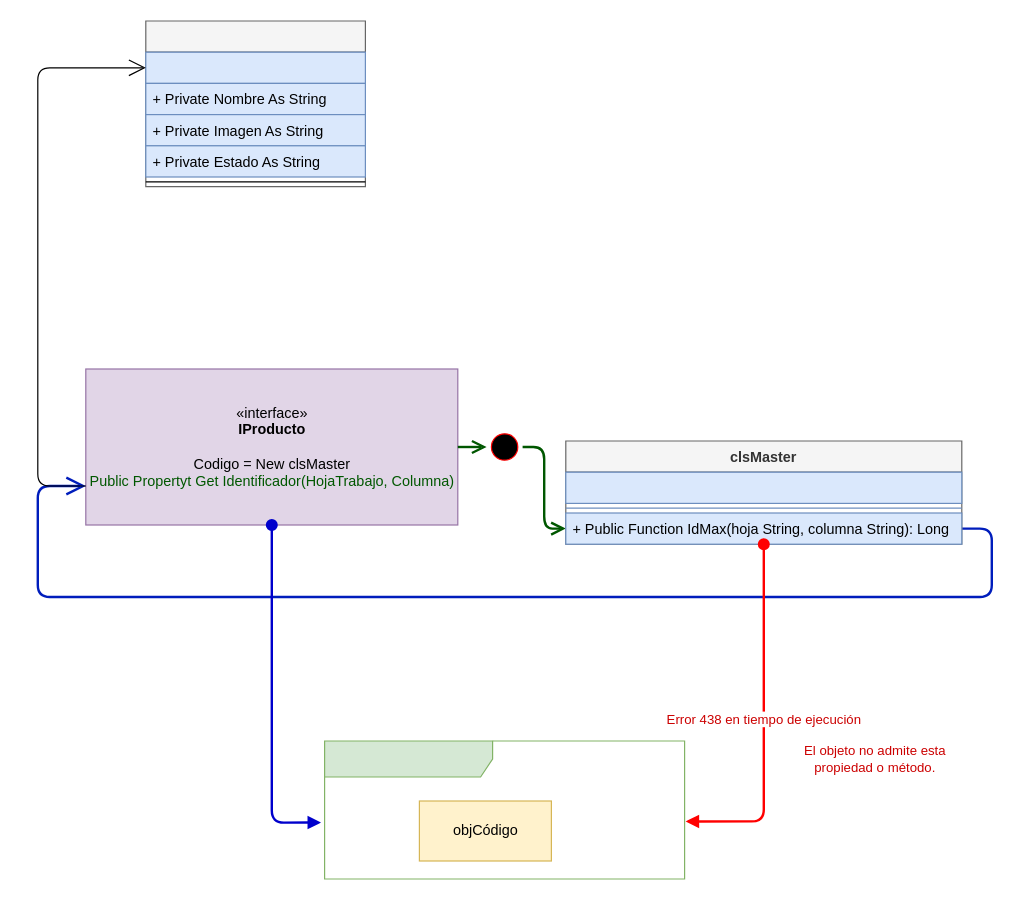
This 1030x900 diagram has some shape labels left out. Here are the shapes that lost their labels. From the top down, the box of each, then its label:
(145, 51, 365, 83): + Private Identificador As Long
(145, 20, 365, 187): clsProducto
(565, 471, 962, 503): + field: type
(323, 740, 685, 879): Módulo Standard
